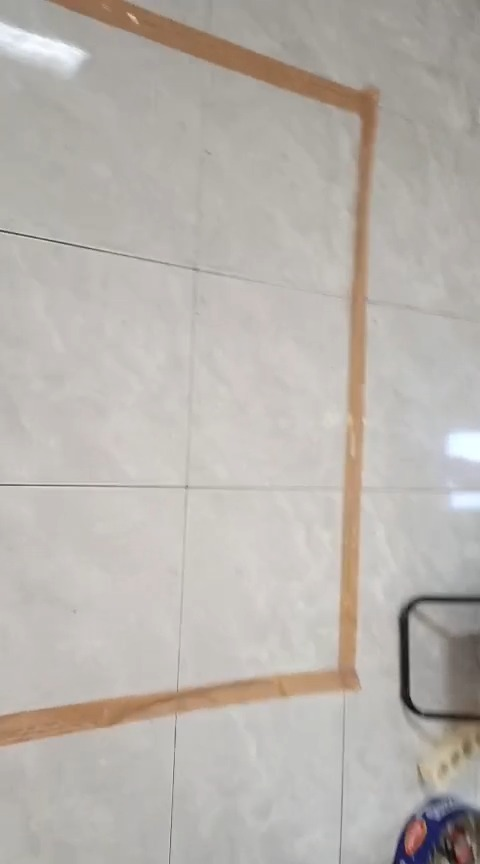floor marking: (0, 0, 377, 744)
